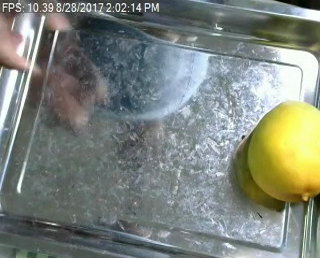Mango: (247, 100, 320, 207)
